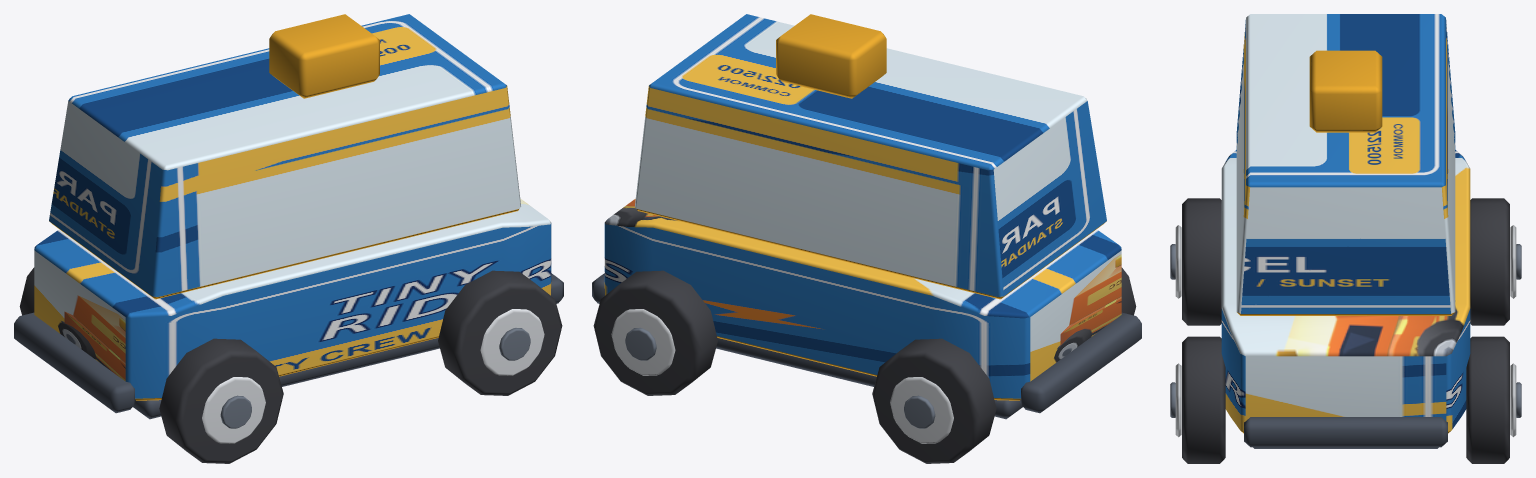
3 views of the same model, side by side, from view 1: azimuth 30°, elevation 25°; view 2: azimuth 150°, elevation 25°; view 3: azimuth 270°, elevation 25° (orthographic).
Parts seen in each view (by area): view 1: CC-03_cabin, CC-03_connected_shell, Tire, Tire.002, roof sign, front bumper, Rim.002, Rim, underbody, Hub.002, Hub; view 2: CC-03_cabin, CC-03_connected_shell, Tire.001, Tire.003, roof sign, front bumper, Rim.003, Rim.001, underbody, Hub.003, Hub.001; view 3: CC-03_cabin, CC-03_connected_shell, rear bumper, roof sign, Tire.002, Tire.003, Tire, Tire.001, Rim, Rim.001, Rim.002, Rim.003 (+1 smaller).
Part boxes in pixels (x1,y1,x2,y2): CC-03_cabin: (49, 14, 520, 299); CC-03_connected_shell: (34, 199, 551, 400); Tire: (159, 338, 283, 463); Tire.002: (438, 270, 562, 395); roof sign: (269, 14, 379, 98); front bumper: (14, 312, 135, 413); Rim.002: (480, 309, 544, 375); Rim: (202, 377, 265, 443); underbody: (133, 338, 439, 419); Hub.002: (499, 328, 530, 360); Hub: (220, 395, 251, 428); CC-03_cabin: (635, 14, 1106, 299); CC-03_connected_shell: (604, 199, 1121, 400); Tire.001: (872, 338, 996, 463); Tire.003: (593, 270, 717, 395); roof sign: (776, 14, 886, 98); front bumper: (1020, 312, 1141, 413); Rim.003: (611, 309, 675, 375); Rim.001: (890, 377, 953, 443); underbody: (716, 338, 1022, 419); Hub.003: (625, 328, 656, 360); Hub.001: (904, 395, 935, 428); CC-03_cabin: (1236, 14, 1455, 315); CC-03_connected_shell: (1221, 150, 1470, 433); rear bumper: (1244, 417, 1447, 447); roof sign: (1309, 50, 1382, 132); Tire.002: (1182, 336, 1225, 463); Tire.003: (1466, 336, 1509, 463); Tire: (1182, 198, 1221, 325); Tire.001: (1470, 198, 1509, 325); Rim: (1175, 225, 1181, 298); Rim.001: (1510, 225, 1516, 298); Rim.002: (1175, 363, 1181, 437); Rim.003: (1510, 363, 1516, 437).
Size of the model in its own units: 318 by 222 by 209.
